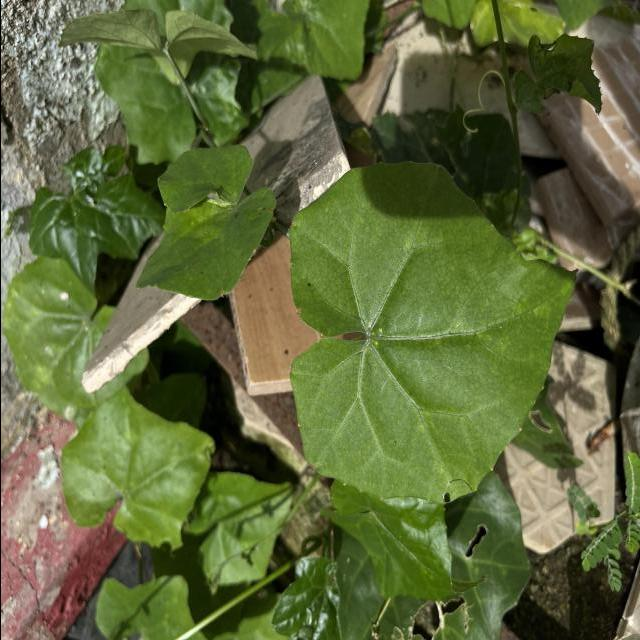Coccinia grandis: (282, 158, 581, 508)
